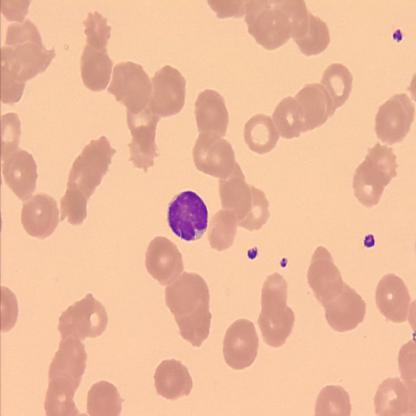Lymphocyte: (167, 188, 209, 242)
